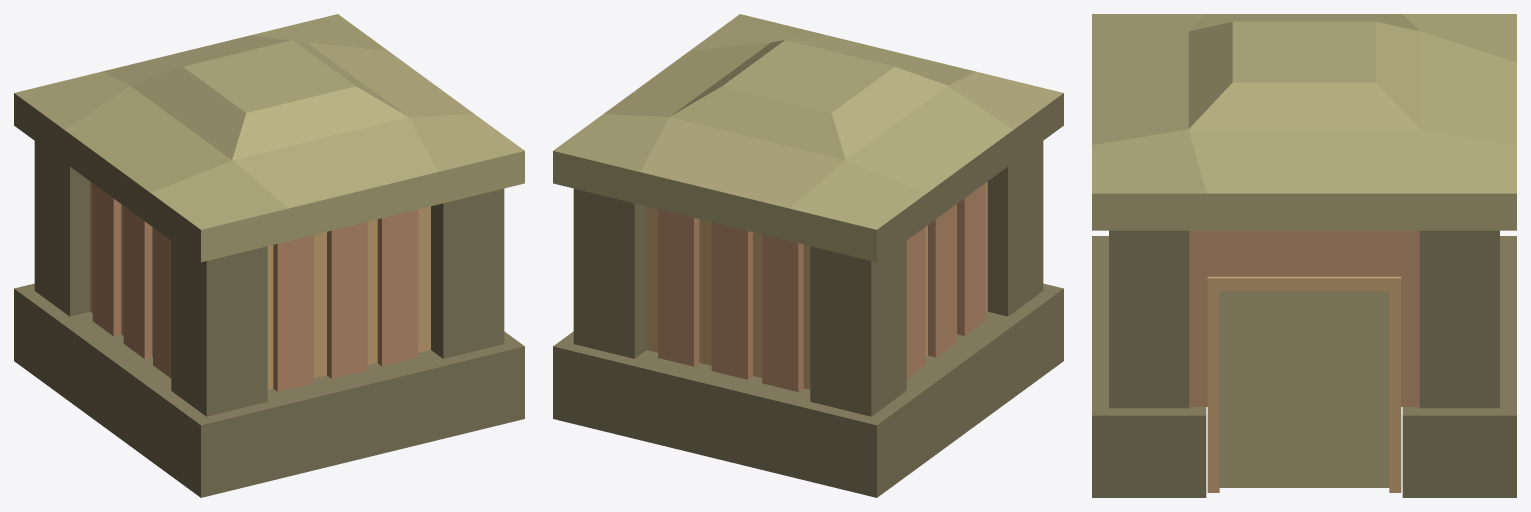
The model's file is Human-StoneHouse.fbx.
3 renders of one model, left to right at view 1: azimuth 30°, elevation 25°; view 2: azimuth 150°, elevation 25°; view 3: azimuth 270°, elevation 25°, orthographic. The views are drawn at different scales.
Parts seen in each view (by area): view 1: Human-Stone-House; view 2: Human-Stone-House; view 3: Human-Stone-House.
Part boxes in pixels (<box>): Human-Stone-House: <box>14,14,524,497</box>; Human-Stone-House: <box>553,14,1063,497</box>; Human-Stone-House: <box>1092,14,1516,497</box>.
Bounding box in the file's own units: 0.7663 × 0.7663 × 0.7126.
